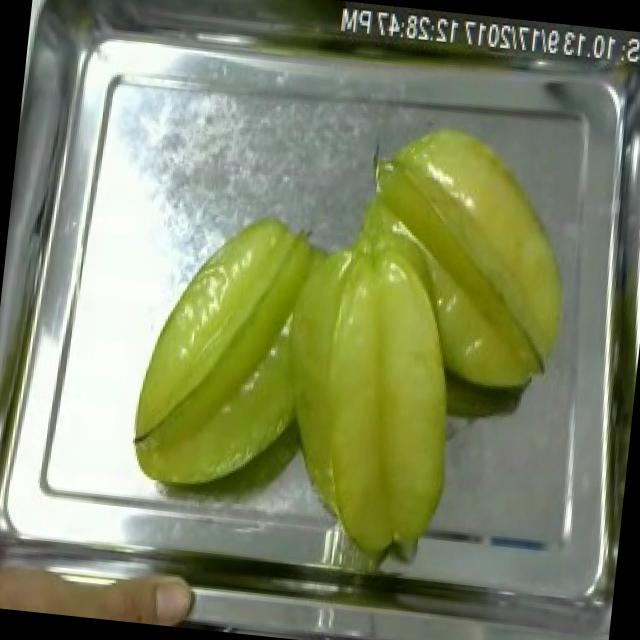fruit: (114, 186, 488, 578), (343, 106, 598, 408), (0, 535, 204, 629)
